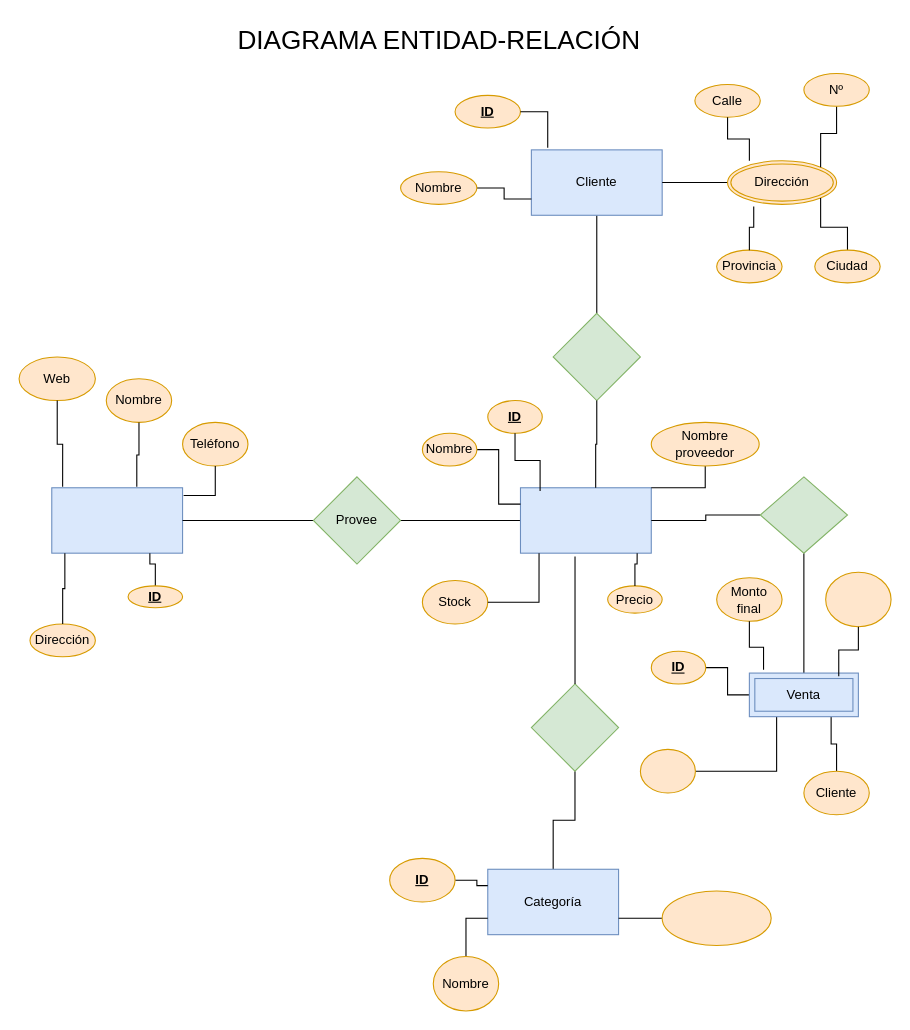
Image size: 910x1030. Some labels were removed from this diagram. The shapes that lost their labels are listed below. From the top down, each one's centre as x and y in pixels, then its label:
At pixel 596 356: "Compra".
At pixel 117 520: "Proveedor".
At pixel 585 520: "Producto".
At pixel 803 514: "Contabiliza".
At pixel 858 599: "Descuento".
At pixel 574 727: "Se organiza".
At pixel 667 770: "Fecha".
At pixel 716 918: "Descripción".
